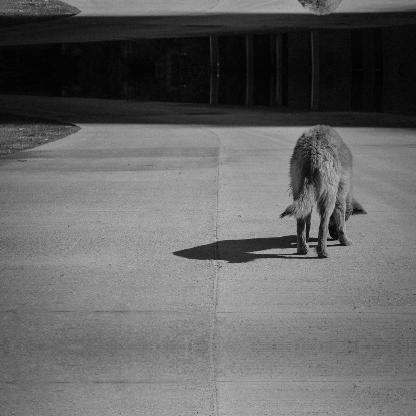Dog: (279, 124, 367, 256)
